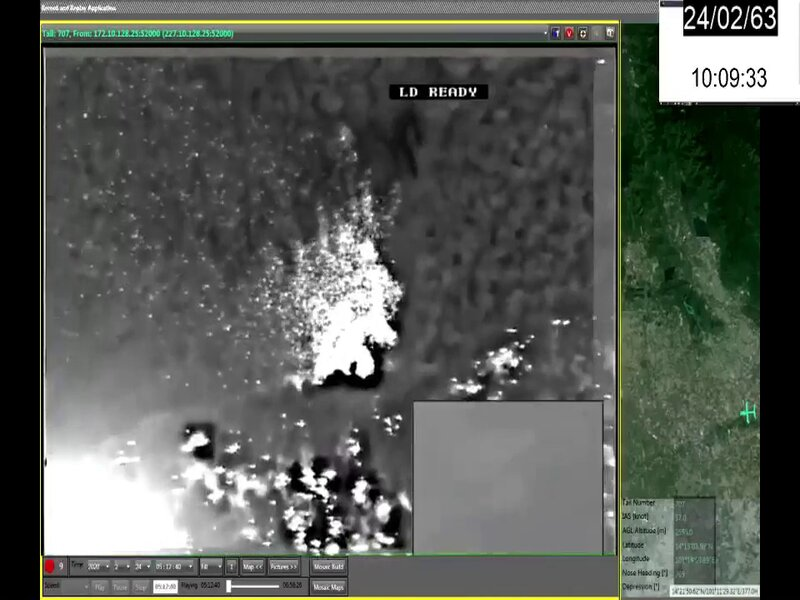Fire: (288, 216, 404, 395)
